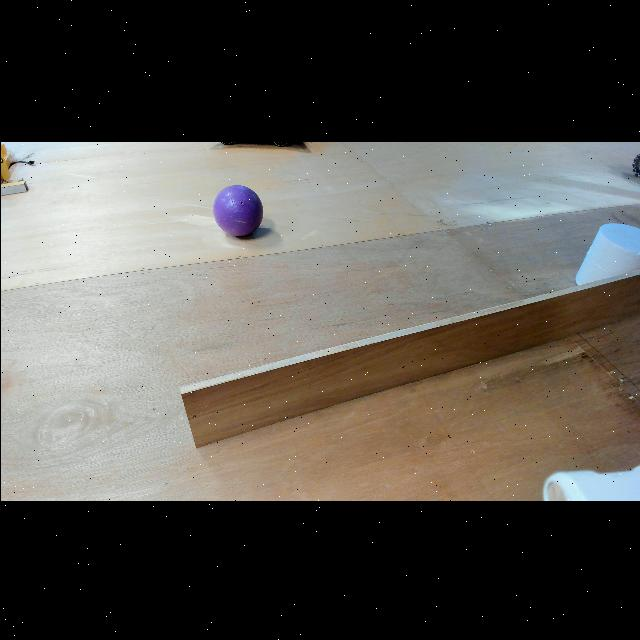P: (211, 183, 263, 235)
